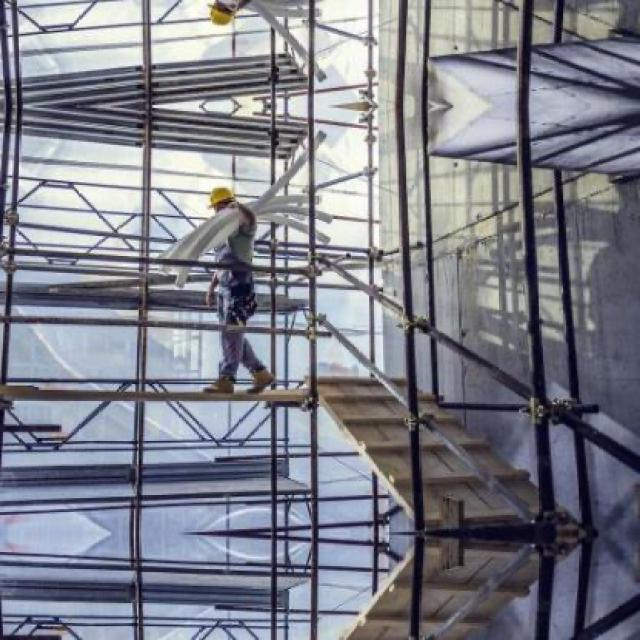con casco: (155, 174, 261, 256)
